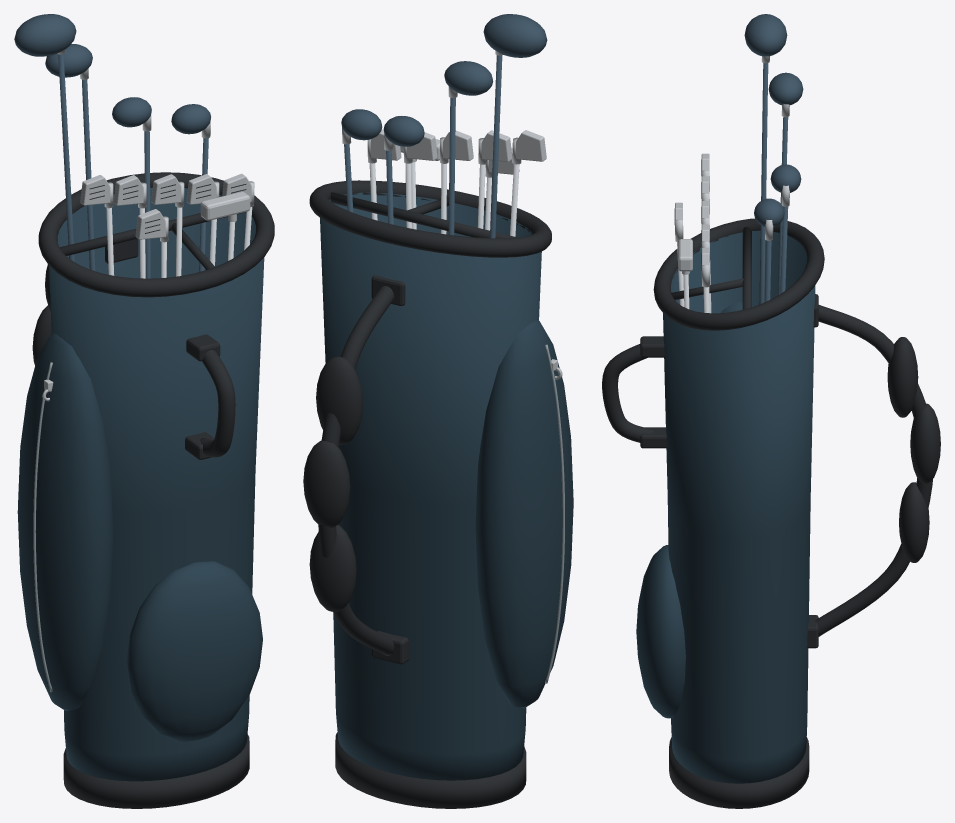
Rendered from full.glb.
3 views of the same model, side by side, from view 1: azimuth 30°, elevation 25°; view 2: azimuth 150°, elevation 25°; view 3: azimuth 270°, elevation 25° (orthographic). The views are drawn at different scales.
Parts seen in each view (by area): view 1: Hollow tapered bag body, Long convex side pocket, Small lower front pocket, Slanted padded mouth rim, Rigid oval bag floor, Open carry handle, Driver rounded club head, Driver shaft, Mouth divider across, Putter head, Wood rounded club head, Side pocket zipper piping (+13 smaller); view 2: Hollow tapered bag body, Long convex side pocket, Slanted padded mouth rim, Rigid oval bag floor, Continuous shoulder strap, Segmented shoulder pad 1, Segmented shoulder pad 2, Segmented shoulder pad 0, Driver rounded club head, Mouth divider across, Wood rounded club head, Driver shaft (+11 smaller); view 3: Hollow tapered bag body, Small lower front pocket, Slanted padded mouth rim, Continuous shoulder strap, Rigid oval bag floor, Open carry handle, Segmented shoulder pad 2, Segmented shoulder pad 1, Segmented shoulder pad 0, Driver rounded club head, Driver shaft, Wood rounded club head (+3 smaller).
Boxes of the visible parts, x1,y1,x2,y2 form: Hollow tapered bag body: [49, 187, 264, 781]; Long convex side pocket: [17, 332, 113, 710]; Small lower front pocket: [126, 561, 262, 741]; Slanted padded mouth rim: [38, 172, 274, 297]; Rigid oval bag floor: [63, 734, 249, 808]; Open carry handle: [200, 350, 235, 457]; Driver rounded club head: [14, 14, 76, 56]; Driver shaft: [58, 54, 74, 261]; Mouth divider across: [59, 212, 245, 255]; Putter head: [200, 191, 250, 220]; Wood rounded club head: [45, 44, 92, 77]; Side pocket zipper piping: [33, 362, 52, 692]; Hollow tapered bag body: [320, 192, 541, 780]; Long convex side pocket: [475, 319, 573, 708]; Slanted padded mouth rim: [309, 180, 551, 257]; Rigid oval bag floor: [335, 732, 526, 808]; Continuous shoulder strap: [318, 286, 394, 655]; Segmented shoulder pad 1: [303, 440, 350, 527]; Segmented shoulder pad 2: [316, 356, 362, 445]; Segmented shoulder pad 0: [309, 525, 356, 611]; Driver rounded club head: [483, 14, 547, 57]; Mouth divider across: [330, 192, 517, 238]; Wood rounded club head: [444, 61, 493, 95]; Driver shaft: [490, 55, 502, 238]; Hollow tapered bag body: [663, 230, 815, 783]; Small lower front pocket: [636, 545, 685, 718]; Slanted padded mouth rim: [653, 218, 824, 330]; Continuous shoulder strap: [815, 305, 932, 636]; Rigid oval bag floor: [669, 737, 809, 808]; Open carry handle: [602, 344, 654, 442]; Segmented shoulder pad 2: [887, 337, 918, 417]; Segmented shoulder pad 1: [910, 403, 940, 483]; Segmented shoulder pad 0: [899, 482, 929, 562]; Driver rounded club head: [744, 14, 787, 56]; Driver shaft: [759, 63, 768, 304]; Wood rounded club head: [768, 72, 803, 105].
Bounding box in the file's own units: 0.3748 × 1.17 × 0.5074.
